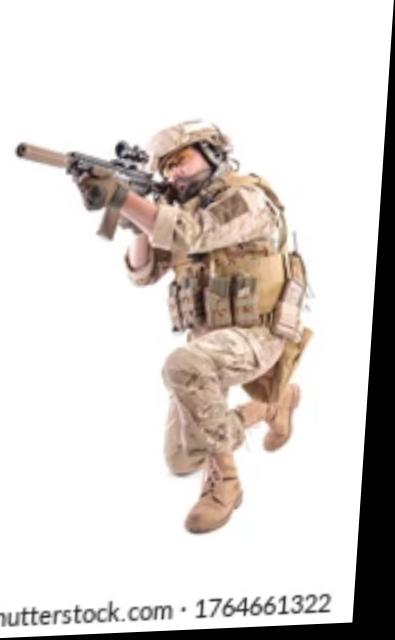other: (122, 121, 322, 528)
